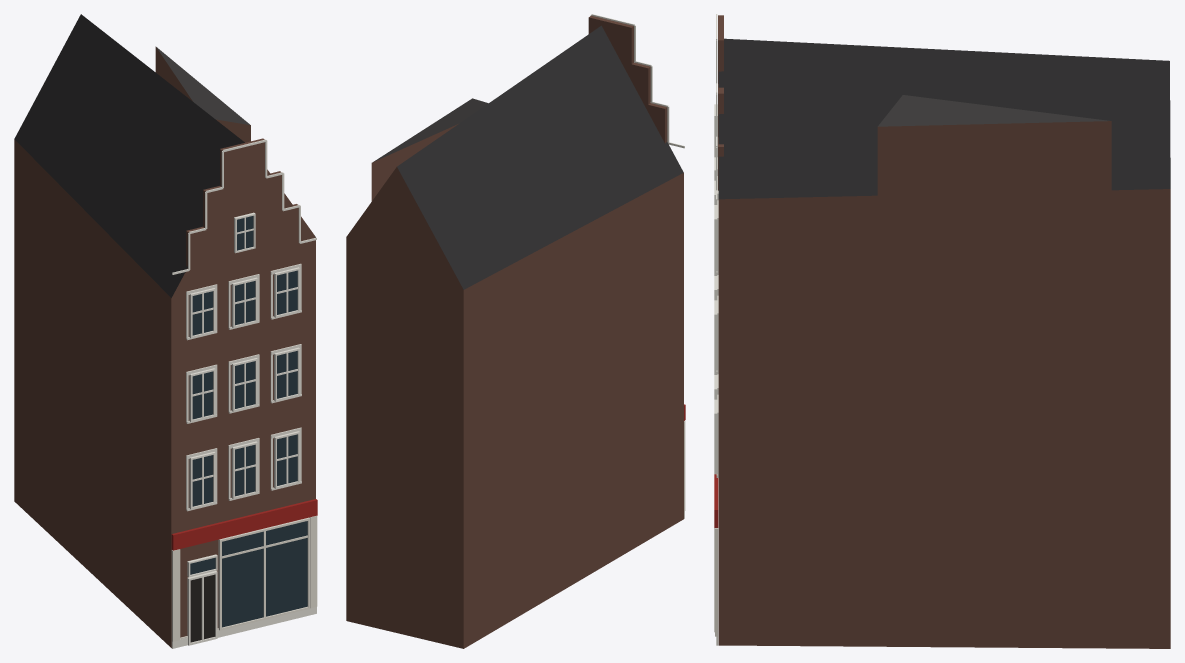
3 renders of one model, left to right at view 1: azimuth 30°, elevation 25°; view 2: azimuth 150°, elevation 25°; view 3: azimuth 270°, elevation 25°, orthographic. The views are drawn at different scales.
Parts seen in each view (by area): view 1: spec-0363100012171645; view 2: spec-0363100012171645; view 3: spec-0363100012171645.
Boxes of the visible parts, x1,y1,x2,y2 form: spec-0363100012171645: (14, 14, 317, 648); spec-0363100012171645: (346, 14, 685, 648); spec-0363100012171645: (714, 14, 1170, 648).
Size of the model in its own units: 6.36 by 19.65 by 14.08.
